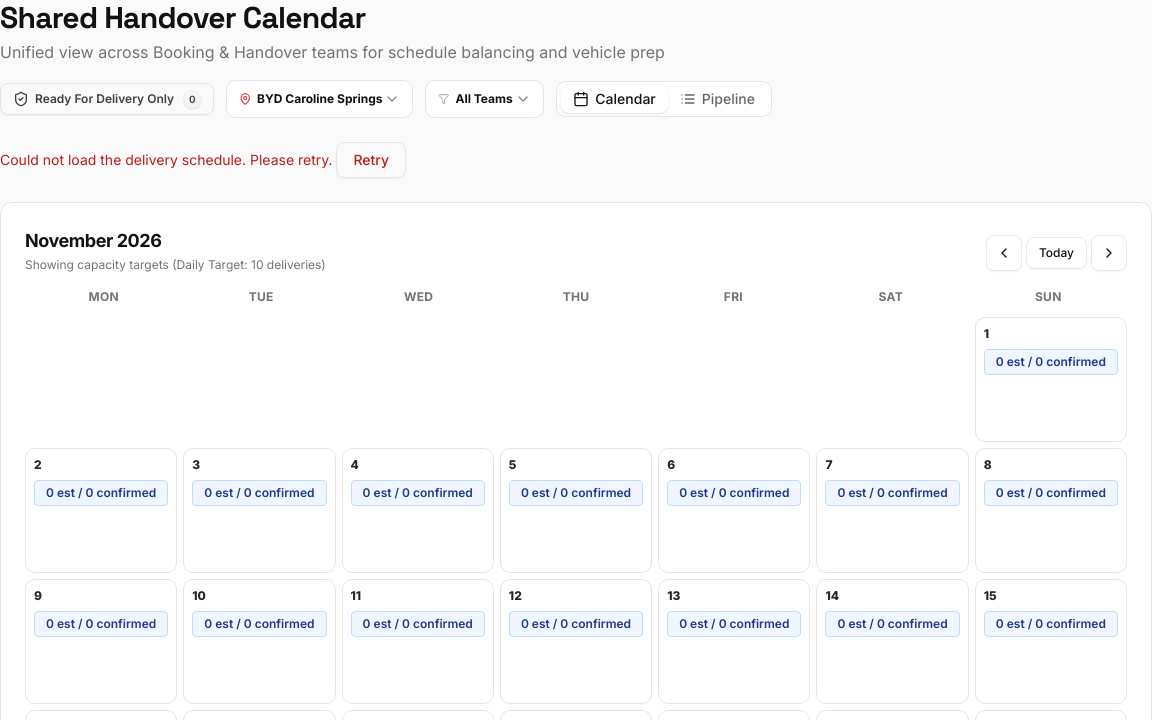
Scenario: calendar load failure displays a retry and recovers
Expected: the message "Could not load the delivery schedule. Please retry. Retry" is shown, [0,142,406,178]
Click the button "Retry" at point(371, 160), box [336,142,406,178]
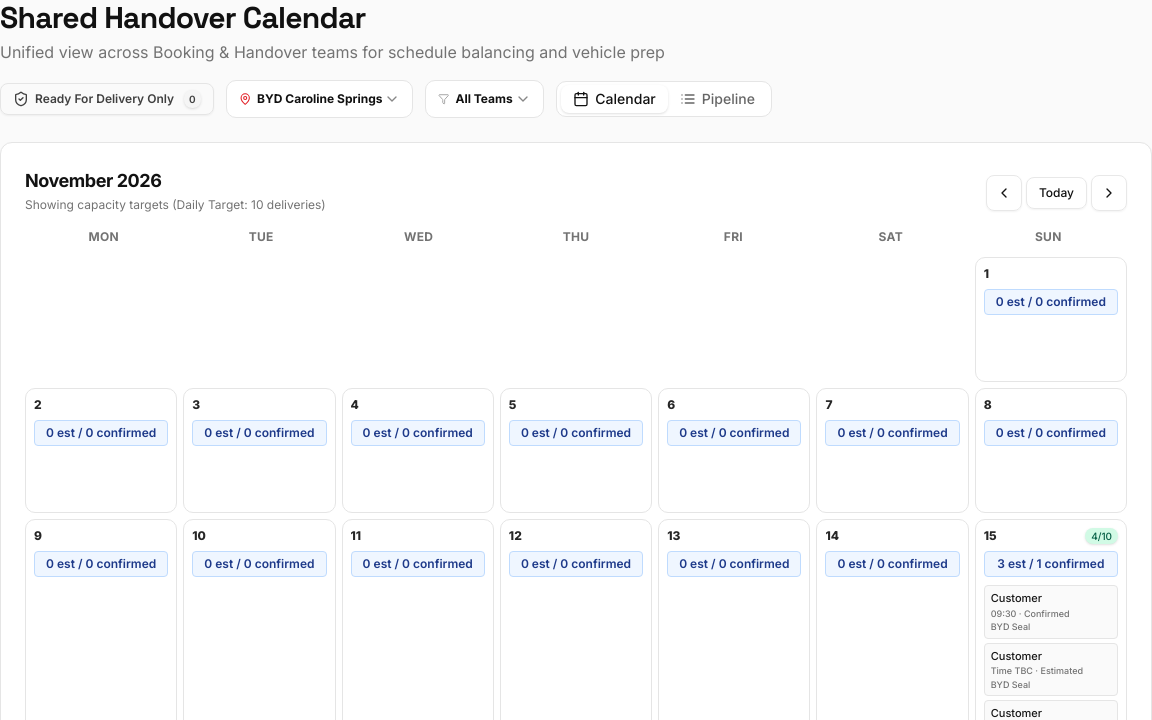
Now the message "Could not load the delivery schedule. Please retry. Retry" is gone
